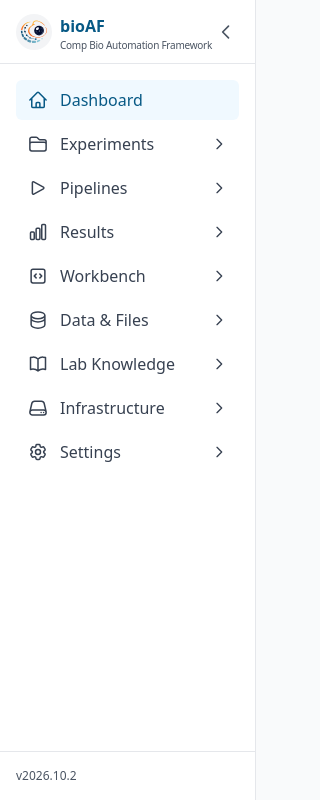
Test case: Sidebar single-expanded behavior › clicking an expanded section collapses it leaving none expanded
Click the button "Pipelines" at (128, 188), box [16,168,239,208]
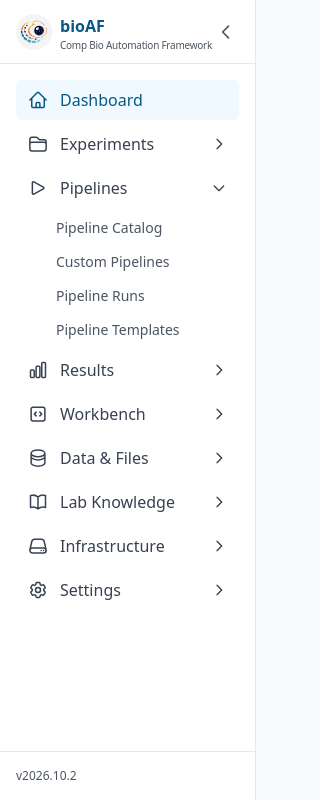
Check: the element with test id "children-Pipelines" is shown, box [56,218,180,339]
Click the button "Pipelines" at (128, 188), box [16,168,239,208]
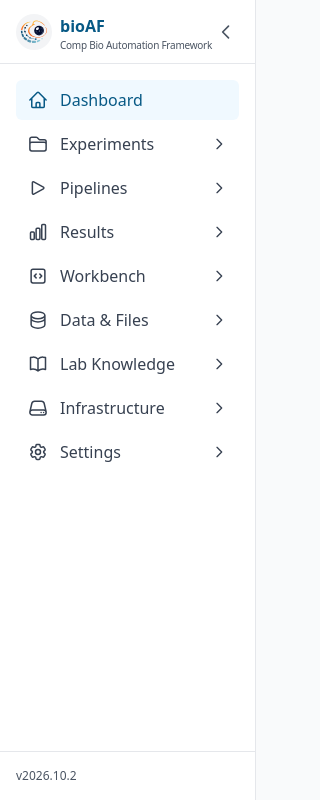
Check: the element with test id "children-Pipelines" is gone
